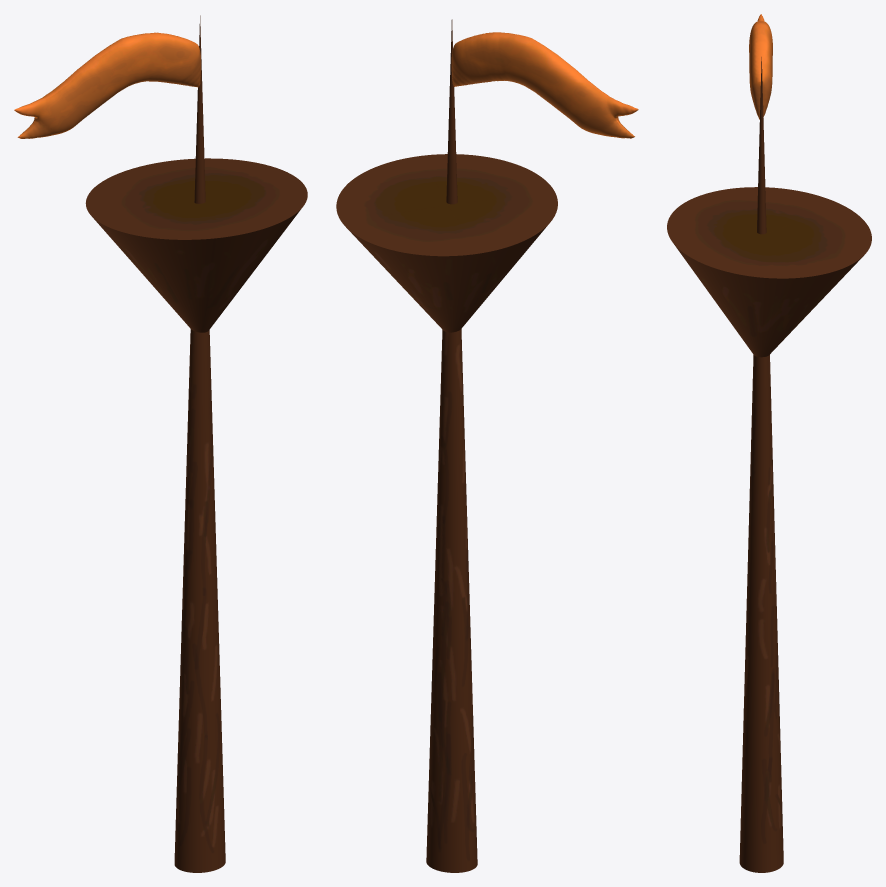
The model's file is ShipMast.fbx.
3 views of the same model, side by side, from view 1: azimuth 30°, elevation 25°; view 2: azimuth 150°, elevation 25°; view 3: azimuth 270°, elevation 25° (orthographic). The views are drawn at different scales.
Parts seen in each view (by area): view 1: node_id26 (×3); view 2: node_id26 (×3); view 3: node_id26 (×3).
Boxes of the visible parts, x1=… form: node_id26 (×3): x1=14, y1=15, x2=307, y2=872; node_id26 (×3): x1=336, y1=19, x2=638, y2=872; node_id26 (×3): x1=667, y1=14, x2=871, y2=872.
Bounding box in the file's own units: 0.8743 × 2.5 × 0.573.
3 materials, 3 textured.
